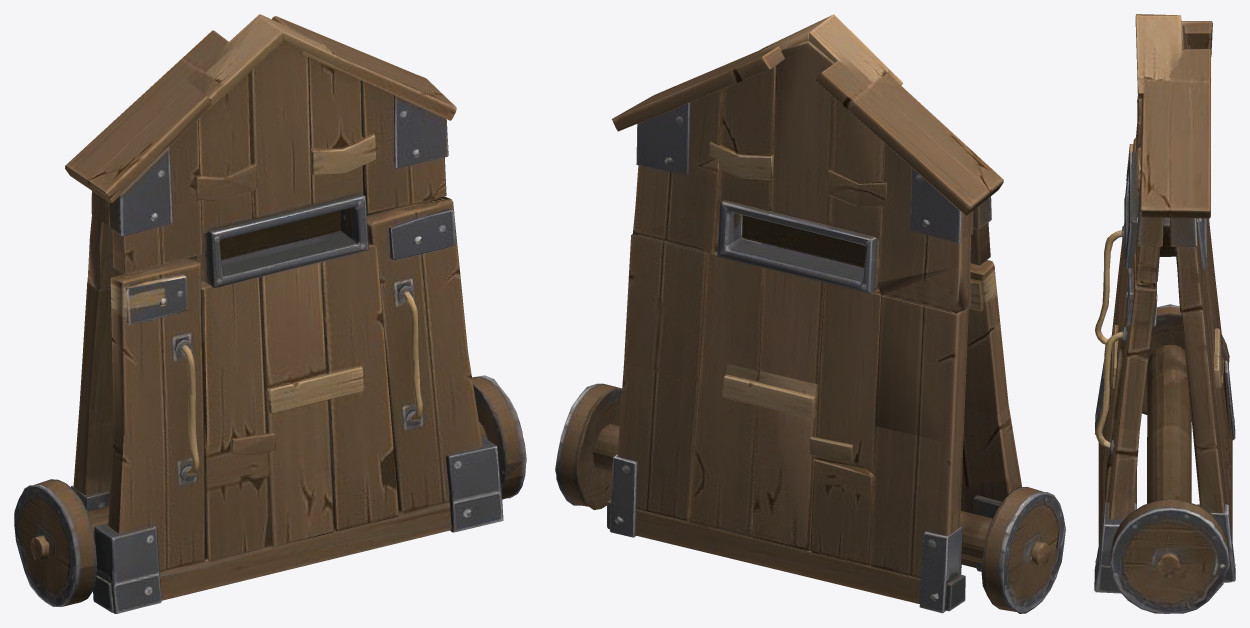
File: siege-mantlet.glb
3 views of the same model, side by side, from view 1: azimuth 30°, elevation 25°; view 2: azimuth 150°, elevation 25°; view 3: azimuth 270°, elevation 25° (orthographic). The views are drawn at different scales.
Parts seen in each view (by area): view 1: mesh_node; view 2: mesh_node; view 3: mesh_node.
Boxes of the visible parts, box(x1,y1,x2,y2) form: mesh_node: box(14, 14, 526, 613); mesh_node: box(555, 14, 1065, 613); mesh_node: box(1094, 14, 1235, 613).
Bounding box in the file's own units: 3.34 × 3.6 × 0.9316.
1 material, 1 textured.
